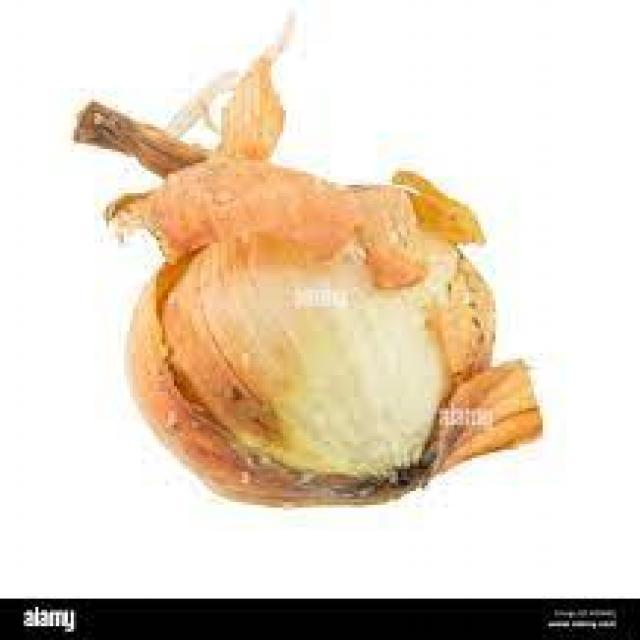Onion: (70, 9, 543, 509)
